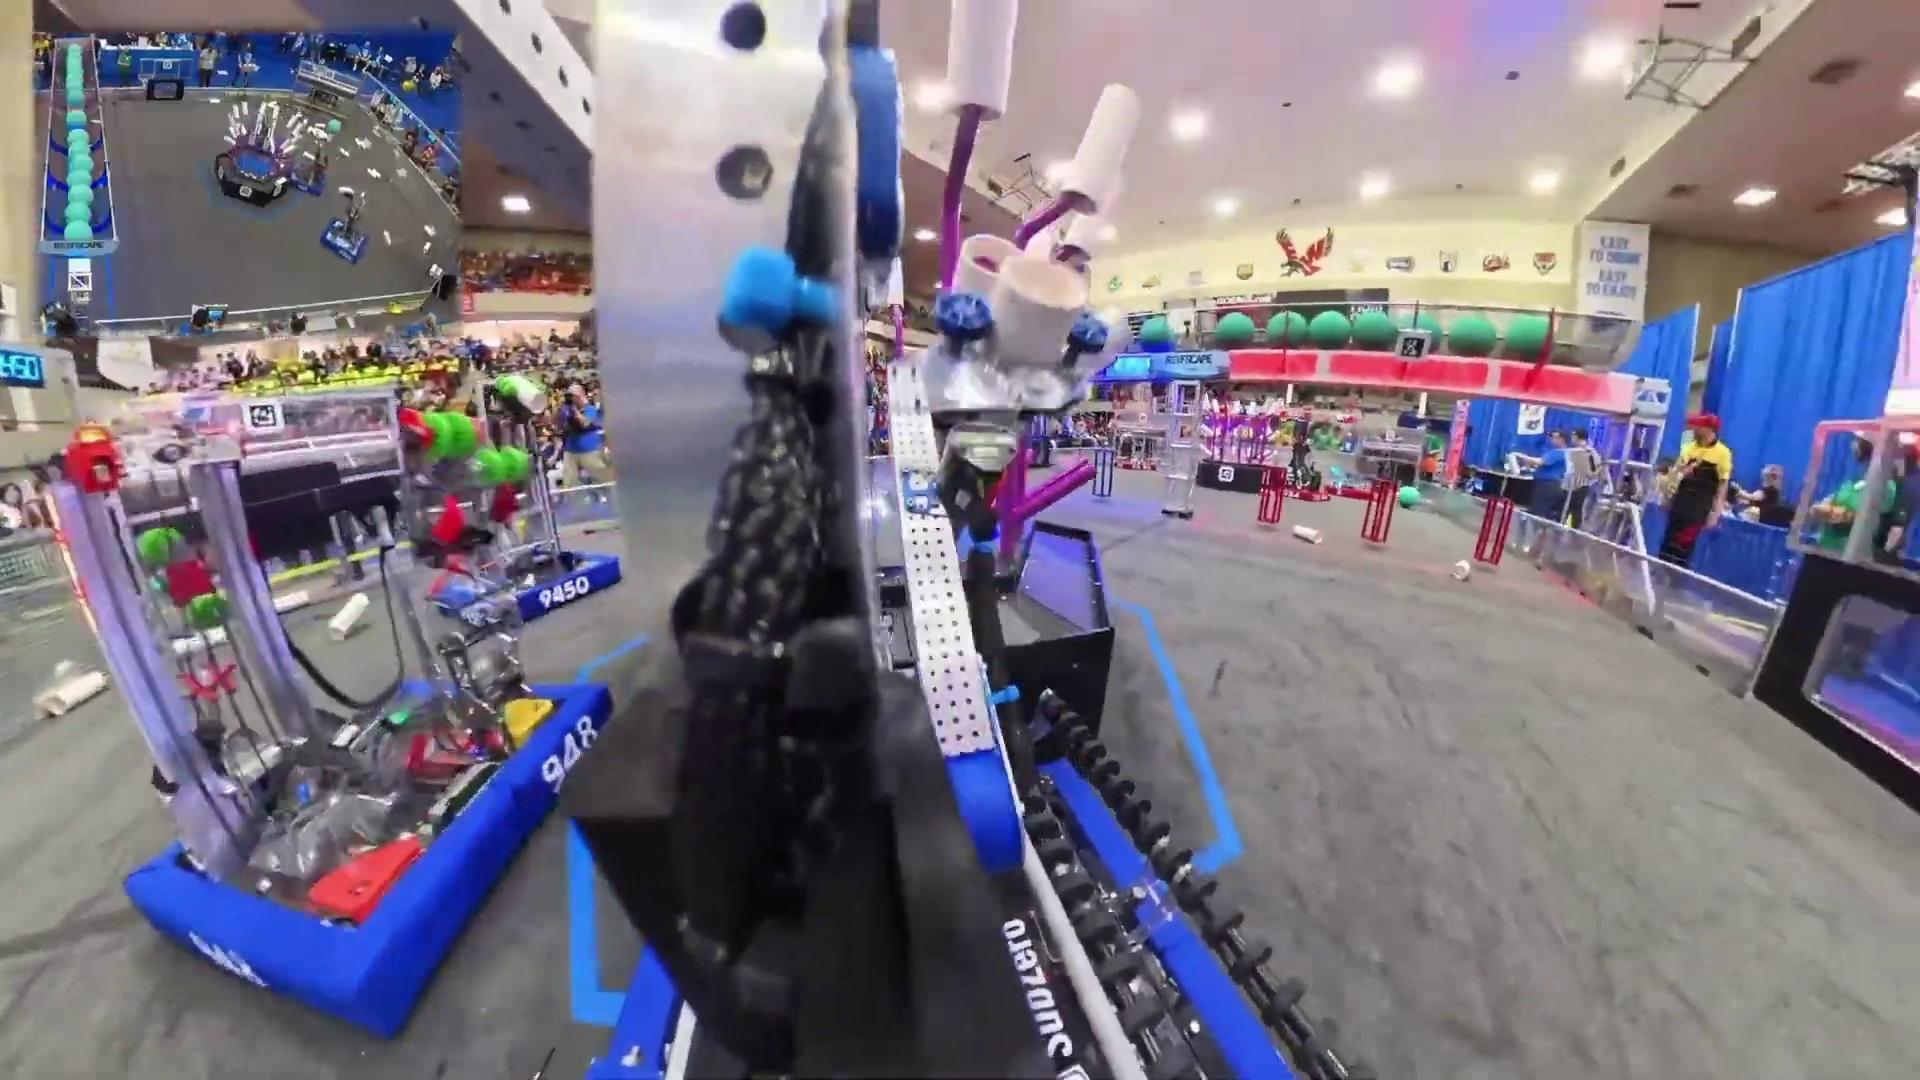robot: (45, 433, 628, 1039), (425, 414, 621, 629), (320, 182, 377, 261), (1276, 439, 1331, 504), (290, 128, 328, 195), (1113, 436, 1159, 472), (1324, 475, 1374, 501)
